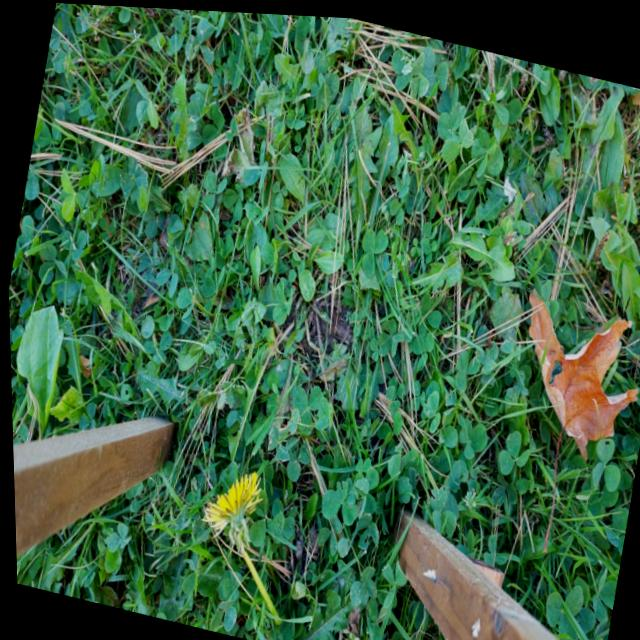base: (266, 606, 287, 635)
